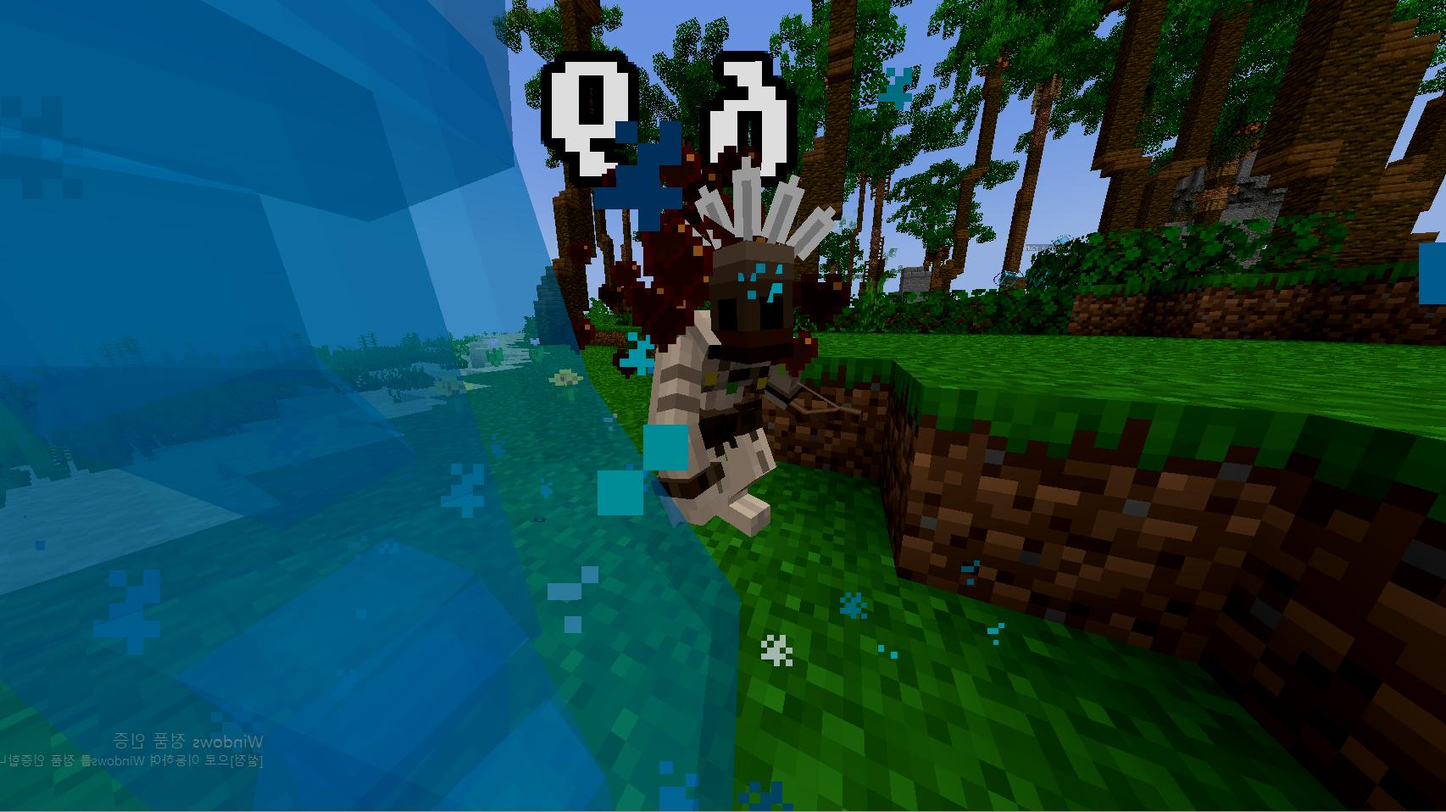bow_indian: (648, 203, 859, 534)
